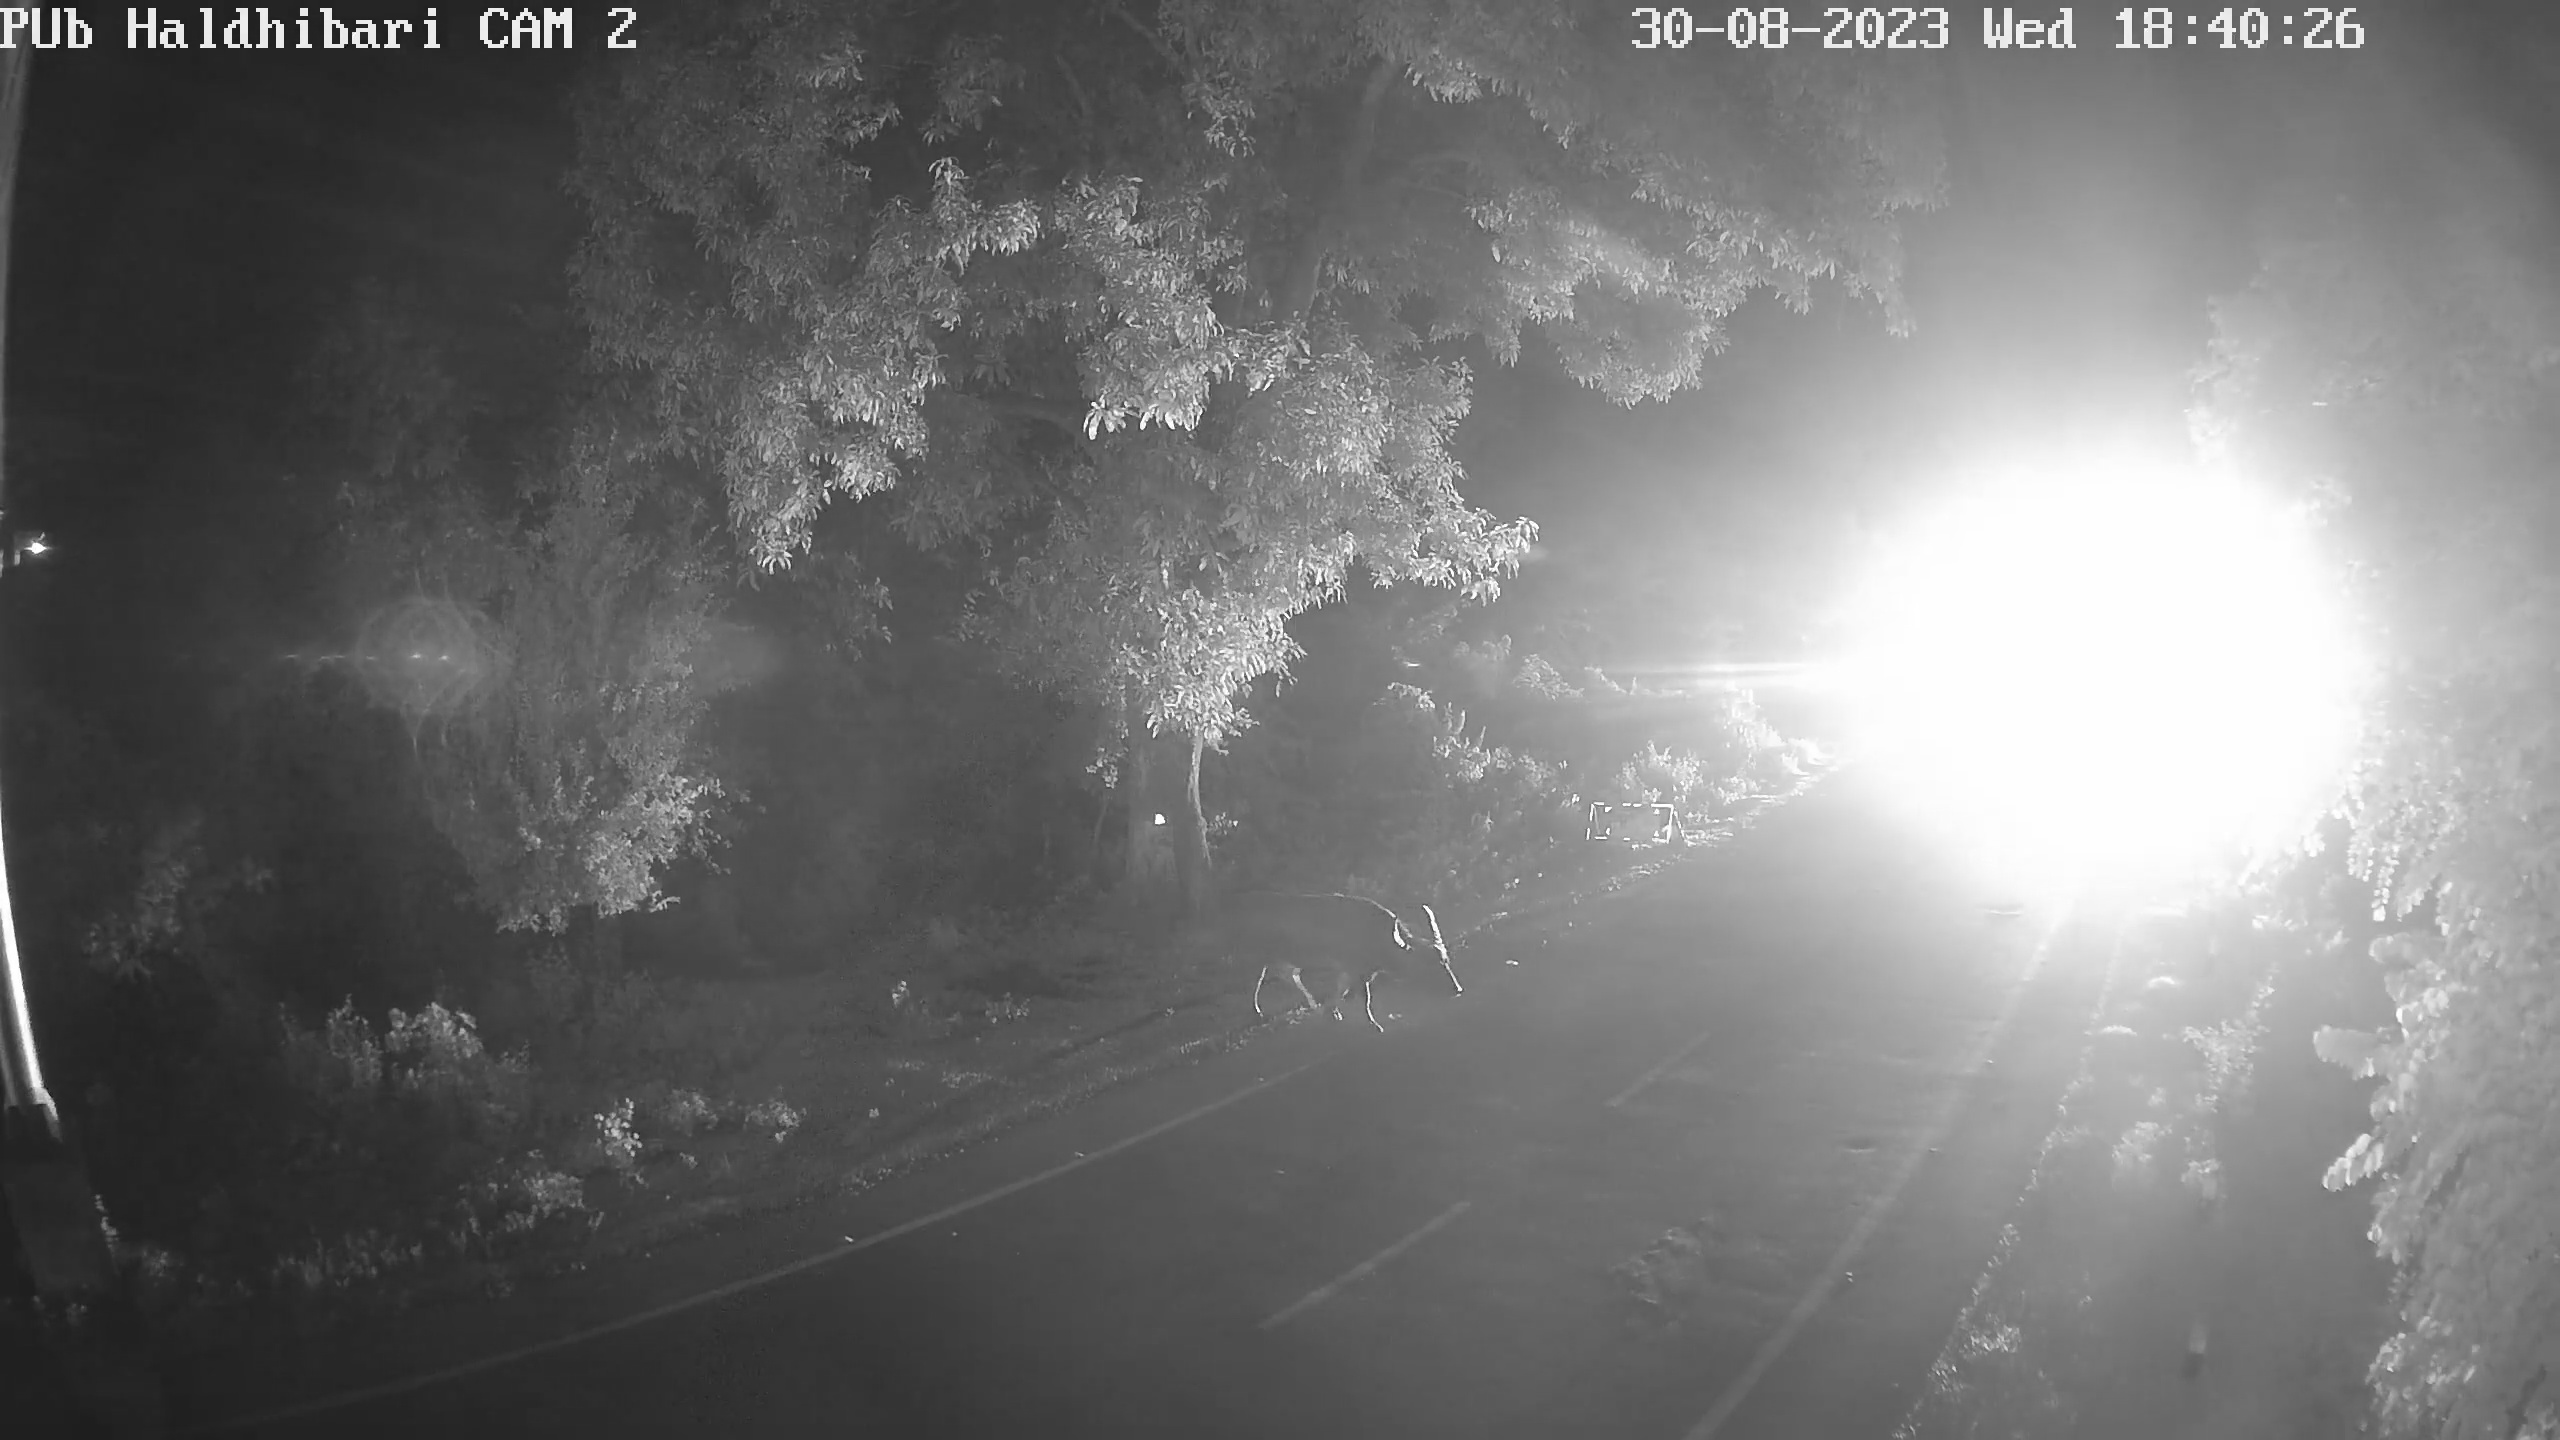buffaloes: (1164, 862, 1461, 1060)
